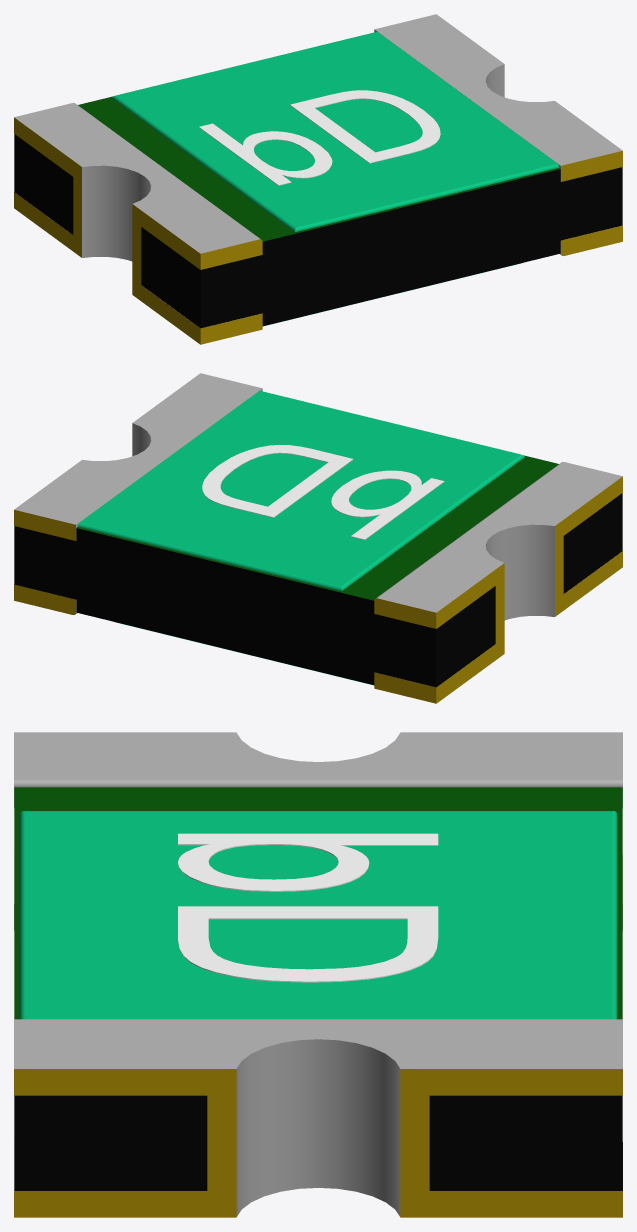
3 renders of one model, top to bottom at view 1: azimuth 30°, elevation 25°; view 2: azimuth 150°, elevation 25°; view 3: azimuth 270°, elevation 25°, orthographic. The views are drawn at different scales.
Visible parts, largest first — view 1: 0ZCH0010FF2E; view 2: 0ZCH0010FF2E; view 3: 0ZCH0010FF2E.
Boxes of the visible parts, x1,y1,x2,y2 form: 0ZCH0010FF2E: [14, 14, 622, 344]; 0ZCH0010FF2E: [14, 373, 622, 703]; 0ZCH0010FF2E: [14, 732, 622, 1217].
Bounding box in the file's own units: 0.0034 × 0.000708 × 0.0026.
